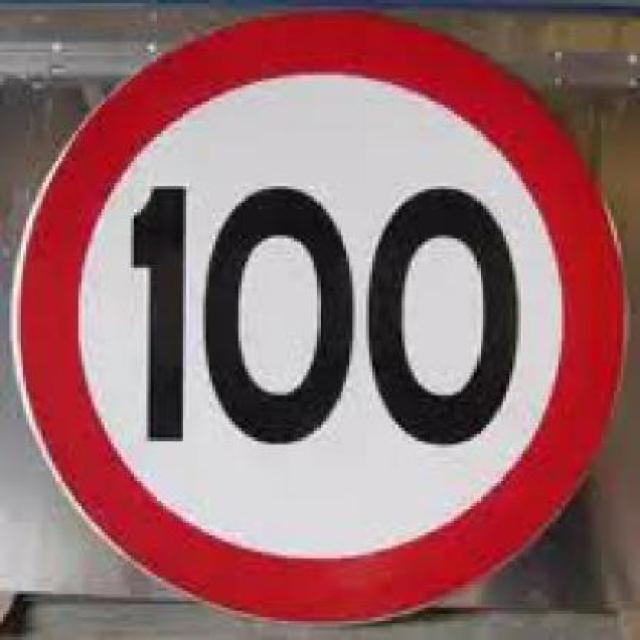speed limit 100: (12, 8, 634, 628)
